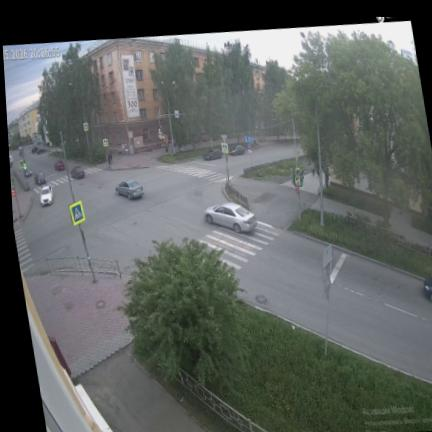car: (204, 203, 258, 233), (116, 180, 144, 199), (69, 165, 86, 181), (41, 186, 53, 205), (204, 149, 223, 160), (424, 277, 431, 301), (34, 171, 46, 184), (229, 145, 244, 155), (55, 161, 65, 170), (23, 167, 31, 177)
human: (107, 149, 110, 165), (109, 153, 112, 164)
lightPole: (315, 95, 324, 225), (166, 81, 175, 155), (81, 95, 83, 105)
pedestianCross: (199, 223, 280, 270), (157, 164, 227, 182), (14, 229, 33, 272), (32, 176, 79, 193)
pedestrianSign: (60, 133, 96, 283), (221, 135, 229, 183), (103, 126, 108, 161), (245, 136, 253, 154)
sign: (322, 244, 333, 357)
trafficLight: (292, 167, 304, 220), (158, 115, 168, 161)
